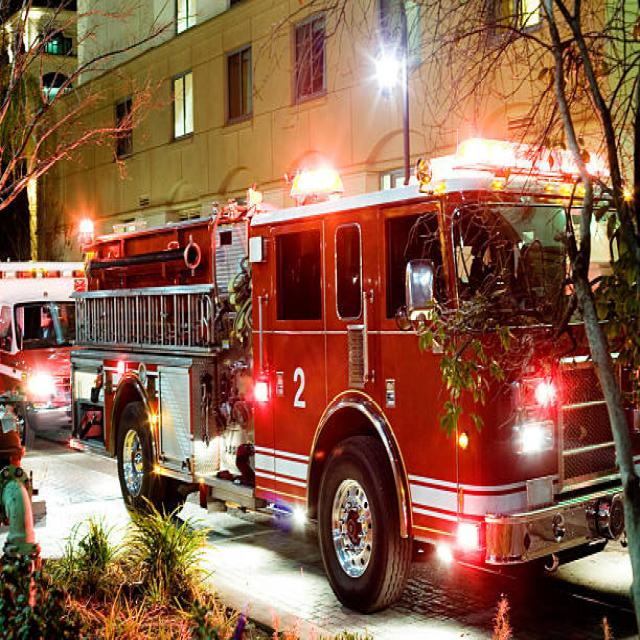emergency: (71, 150, 625, 610)
